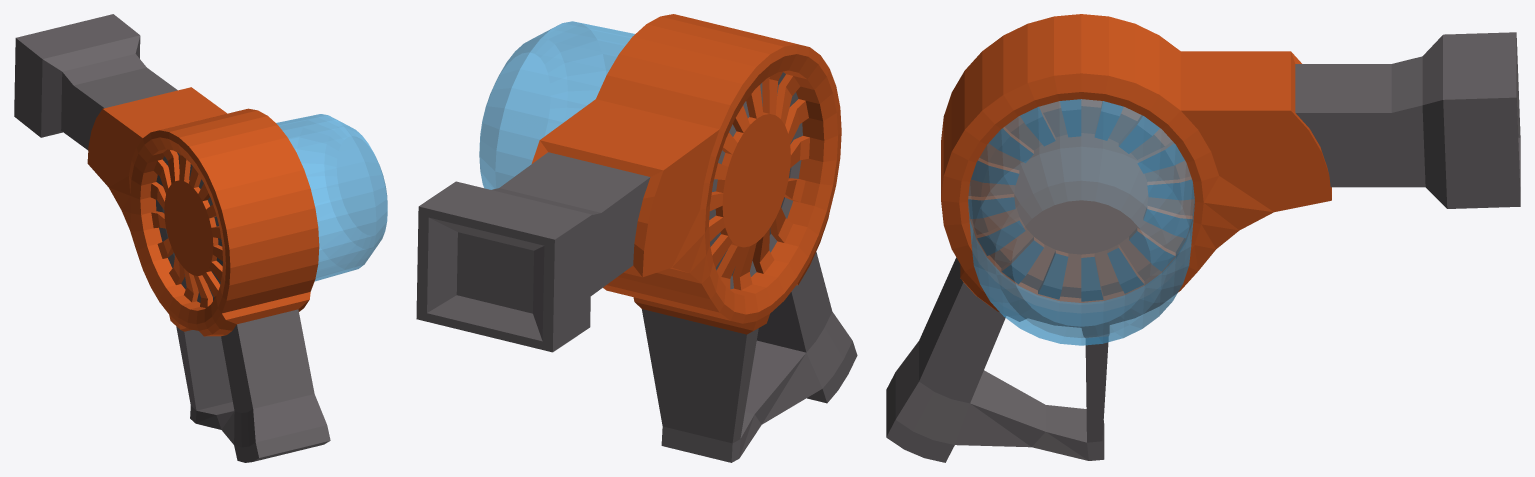
File: Shooterv2.dae
The picture shows the model from 3 angles, left to right: view 1: azimuth 30°, elevation 25°; view 2: azimuth 150°, elevation 25°; view 3: azimuth 270°, elevation 25°; orthographic projection. The views are drawn at different scales.
Parts seen in each view (by area): view 1: Cylinder, Cylinder.003, Cylinder.002, Cylinder.001, Cylinder.004; view 2: Cylinder, Cylinder.002, Cylinder.003, Cylinder.004, Cylinder.001; view 3: Cylinder, Cylinder.001, Cylinder.005, Cylinder.002, Cylinder.003.
Boxes of the visible parts, x1=… form: Cylinder: x1=87, y1=87, x2=319, y2=336; Cylinder.003: x1=176, y1=309, x2=330, y2=462; Cylinder.002: x1=14, y1=14, x2=177, y2=150; Cylinder.001: x1=276, y1=114, x2=387, y2=281; Cylinder.004: x1=150, y1=149, x2=222, y2=307; Cylinder: x1=531, y1=14, x2=841, y2=334; Cylinder.002: x1=416, y1=152, x2=650, y2=352; Cylinder.003: x1=642, y1=252, x2=857, y2=462; Cylinder.004: x1=709, y1=71, x2=809, y2=290; Cylinder.001: x1=479, y1=21, x2=634, y2=189; Cylinder: x1=941, y1=14, x2=1331, y2=337; Cylinder.001: x1=968, y1=99, x2=1194, y2=345; Cylinder.005: x1=968, y1=99, x2=1194, y2=301; Cylinder.002: x1=1295, y1=32, x2=1520, y2=208; Cylinder.003: x1=886, y1=257, x2=1108, y2=462.
Size of the model in its own units: 2.11 by 4.52 by 3.15.
